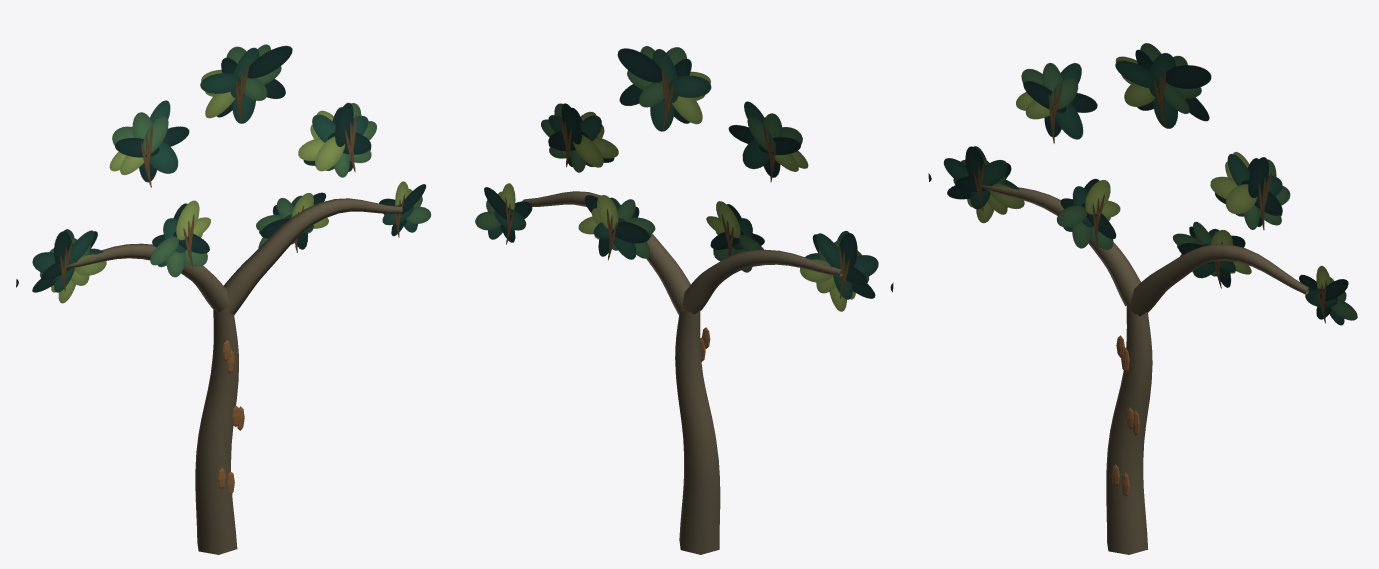
File: TREE_EUCALYPTUS_001_LOD_MAP.glb
3 renders of one model, left to right at view 1: azimuth 30°, elevation 25°; view 2: azimuth 150°, elevation 25°; view 3: azimuth 330°, elevation 25°, orthographic. The views are drawn at different scales.
Parts seen in each view (by area): view 1: GG_EUC_V4_MAIN_TRUNK, GG_EUC_BODY_ISLAND_02_CLUSTER_00, GG_EUC_V4_RIGHT_PRIMARY, GG_EUC_BODY_ISLAND_01_CLUSTER_00, GG_EUC_BODY_ISLAND_03_CLUSTER_00, GG_EUC_BODY_ISLAND_00_CLUSTER_00, GG_EUC_BODY_ISLAND_05_CLUSTER_00, GG_EUC_V4_LEFT_PRIMARY, GG_EUC_BODY_ISLAND_06_CLUSTER_00, GG_EUC_BODY_ISLAND_04_CLUSTER_00; view 2: GG_EUC_V4_MAIN_TRUNK, GG_EUC_BODY_ISLAND_02_CLUSTER_00, GG_EUC_BODY_ISLAND_00_CLUSTER_00, GG_EUC_BODY_ISLAND_01_CLUSTER_00, GG_EUC_BODY_ISLAND_03_CLUSTER_00, GG_EUC_BODY_ISLAND_06_CLUSTER_00, GG_EUC_V4_LEFT_PRIMARY, GG_EUC_V4_RIGHT_PRIMARY, GG_EUC_BODY_ISLAND_05_CLUSTER_00, GG_EUC_BODY_ISLAND_04_CLUSTER_00; view 3: GG_EUC_V4_MAIN_TRUNK, GG_EUC_BODY_ISLAND_02_CLUSTER_00, GG_EUC_BODY_ISLAND_01_CLUSTER_00, GG_EUC_BODY_ISLAND_03_CLUSTER_00, GG_EUC_V4_RIGHT_PRIMARY, GG_EUC_BODY_ISLAND_00_CLUSTER_00, GG_EUC_BODY_ISLAND_05_CLUSTER_00, GG_EUC_V4_LEFT_PRIMARY, GG_EUC_BODY_ISLAND_06_CLUSTER_00, GG_EUC_BODY_ISLAND_04_CLUSTER_00.
Boxes of the visible parts, x1,y1,x2,y2 form: GG_EUC_V4_MAIN_TRUNK: (195,309,238,554); GG_EUC_BODY_ISLAND_02_CLUSTER_00: (200,44,292,123); GG_EUC_V4_RIGHT_PRIMARY: (223,198,402,315); GG_EUC_BODY_ISLAND_01_CLUSTER_00: (109,100,189,187); GG_EUC_BODY_ISLAND_03_CLUSTER_00: (298,102,376,177); GG_EUC_BODY_ISLAND_00_CLUSTER_00: (16,229,106,303); GG_EUC_BODY_ISLAND_05_CLUSTER_00: (150,200,210,277); GG_EUC_V4_LEFT_PRIMARY: (65,243,228,312); GG_EUC_BODY_ISLAND_06_CLUSTER_00: (256,192,328,252); GG_EUC_BODY_ISLAND_04_CLUSTER_00: (379,181,430,237); GG_EUC_V4_MAIN_TRUNK: (675,310,720,554); GG_EUC_BODY_ISLAND_02_CLUSTER_00: (617,46,711,131); GG_EUC_BODY_ISLAND_00_CLUSTER_00: (800,231,893,311); GG_EUC_BODY_ISLAND_01_CLUSTER_00: (728,101,808,182); GG_EUC_BODY_ISLAND_03_CLUSTER_00: (541,103,618,172); GG_EUC_BODY_ISLAND_06_CLUSTER_00: (578,195,655,260); GG_EUC_V4_LEFT_PRIMARY: (682,249,842,314); GG_EUC_V4_RIGHT_PRIMARY: (522,191,690,314); GG_EUC_BODY_ISLAND_05_CLUSTER_00: (706,201,764,272); GG_EUC_BODY_ISLAND_04_CLUSTER_00: (475,183,532,244); GG_EUC_V4_MAIN_TRUNK: (1106,305,1152,554); GG_EUC_BODY_ISLAND_02_CLUSTER_00: (1115,43,1211,128); GG_EUC_BODY_ISLAND_01_CLUSTER_00: (1016,63,1097,143); GG_EUC_BODY_ISLAND_03_CLUSTER_00: (1210,152,1290,230); GG_EUC_V4_RIGHT_PRIMARY: (1127,244,1309,316); GG_EUC_BODY_ISLAND_00_CLUSTER_00: (928,146,1024,223); GG_EUC_BODY_ISLAND_05_CLUSTER_00: (1056,179,1120,249); GG_EUC_V4_LEFT_PRIMARY: (980,185,1141,306); GG_EUC_BODY_ISLAND_06_CLUSTER_00: (1173,221,1251,288); GG_EUC_BODY_ISLAND_04_CLUSTER_00: (1299,265,1357,325).
Size of the model in its own units: 5.99 by 6.95 by 0.4937.
Materials: 3 (1 with a texture image).
